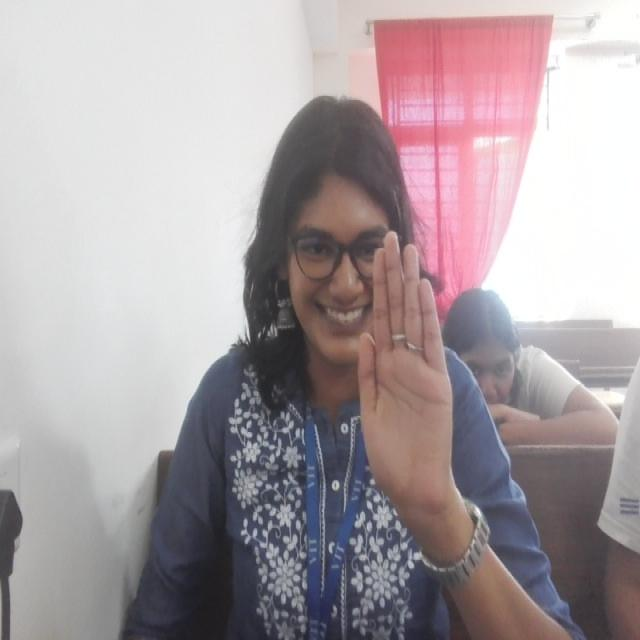hello: (354, 229, 458, 514)
